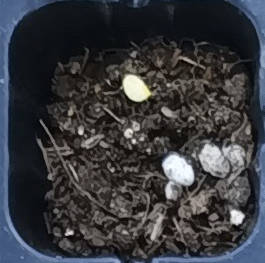pepper seed: (45, 23, 197, 125)
